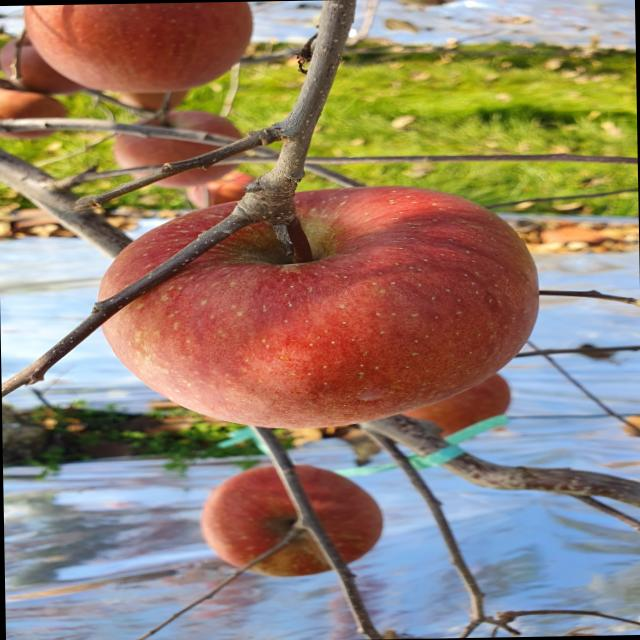fresh: (82, 180, 566, 442)
